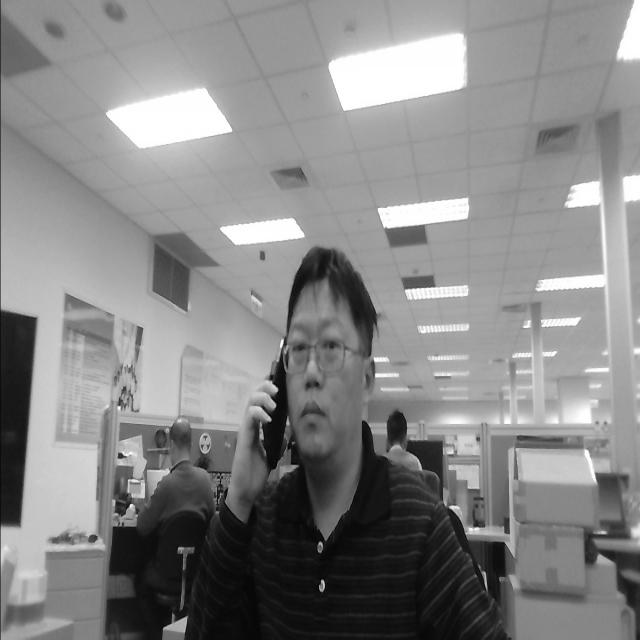phone: (239, 321, 303, 480)
